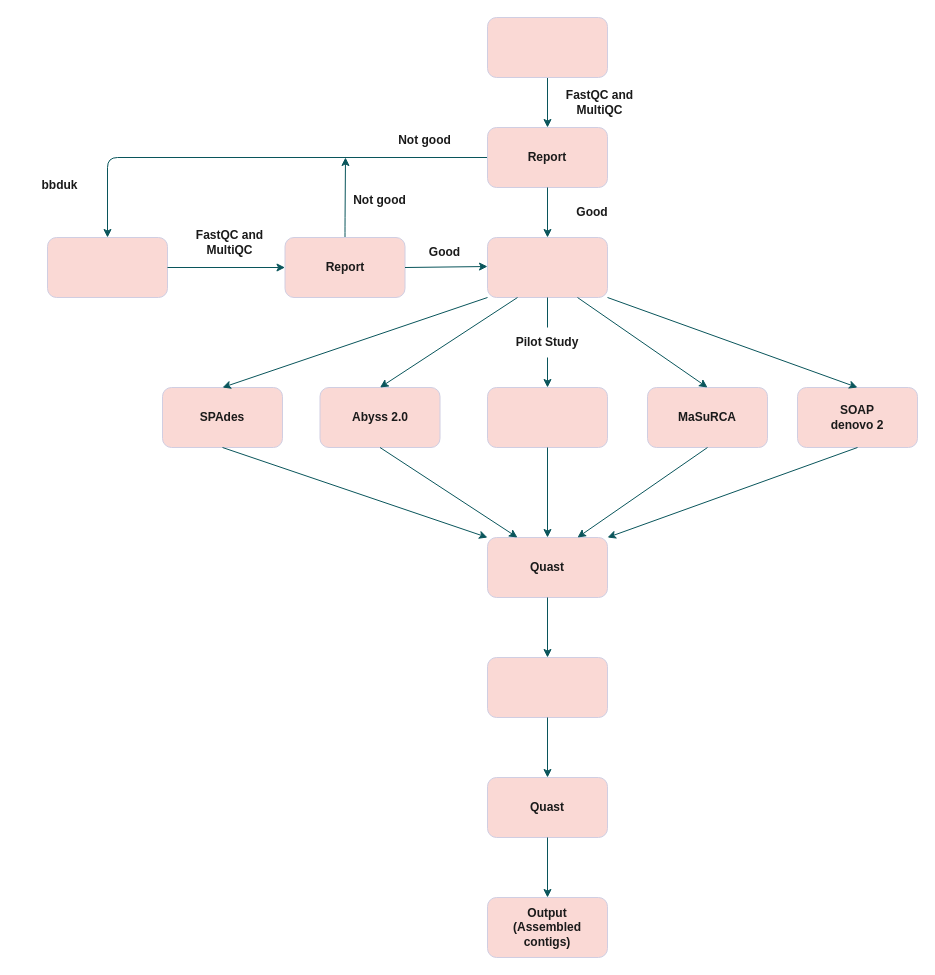
Image size: 935x975. Some labels were removed from this diagram. Each missing label, with the box of its shape:
Final Assembly: SPAdes: (486, 656, 608, 718)
Input (Raw read data): (486, 16, 608, 78)
Pre-processed reads: (486, 236, 608, 298)
SKESA: (486, 386, 608, 448)
Trimmed reads: (46, 236, 168, 298)
